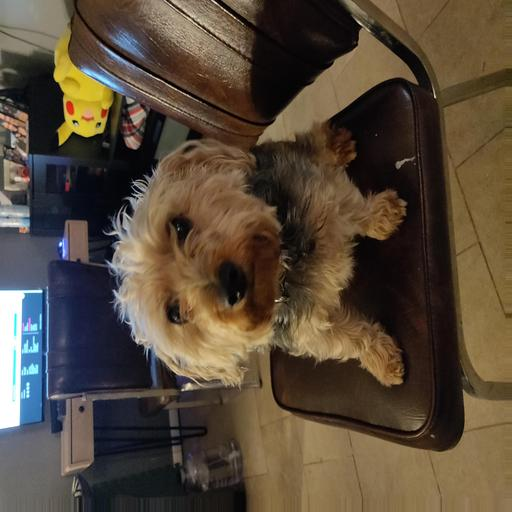dog: (108, 103, 422, 417)
